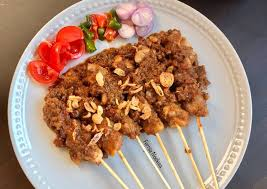sate: (39, 34, 219, 160)
